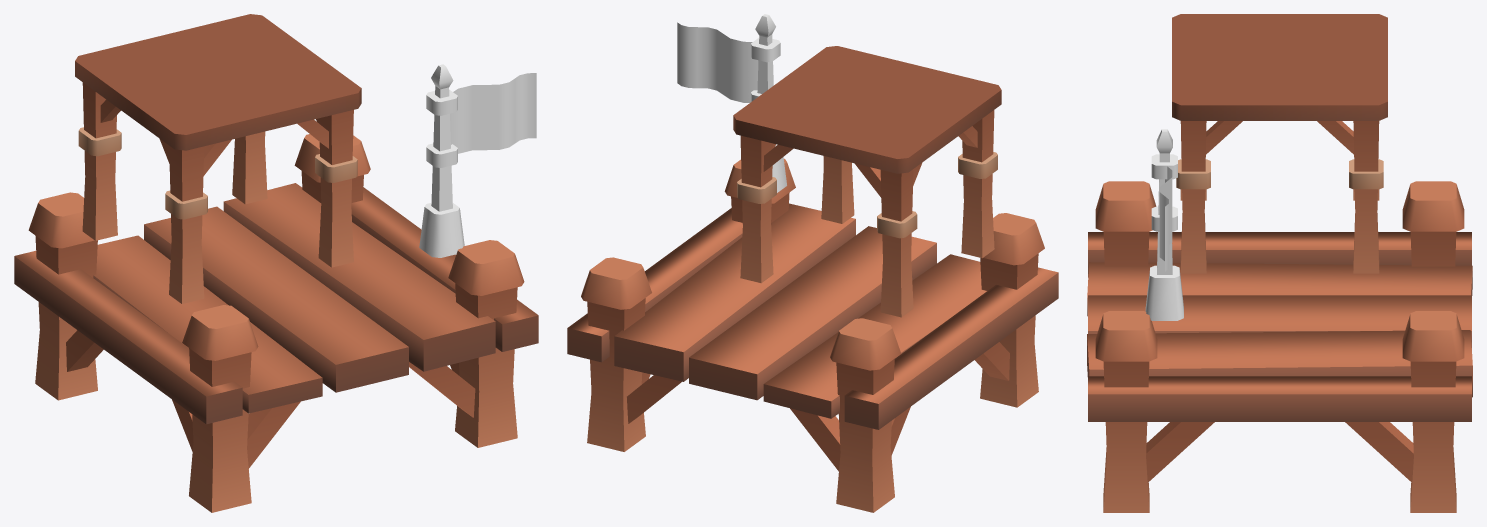
Rendered from harbor.glb.
3 views of the same model, side by side, from view 1: azimuth 30°, elevation 25°; view 2: azimuth 150°, elevation 25°; view 3: azimuth 270°, elevation 25° (orthographic). The views are drawn at different scales.
Visible parts, largest first — view 1: structure-platform-dock, structure, flag; view 2: structure-platform-dock, structure, flag; view 3: structure-platform-dock, structure, flag.
Boxes of the visible parts, bbox=[...] form: structure-platform-dock: bbox=[14, 134, 538, 512]; structure: bbox=[75, 14, 361, 303]; flag: bbox=[419, 64, 536, 257]; structure-platform-dock: bbox=[567, 158, 1058, 512]; structure: bbox=[733, 46, 1001, 317]; flag: bbox=[677, 14, 786, 192]; structure-platform-dock: bbox=[1087, 181, 1472, 512]; structure: bbox=[1172, 14, 1387, 273]; flag: bbox=[1145, 129, 1183, 320].
Size of the model in its own units: 2.22 by 2.07 by 2.01.
Materials: 2 (1 with a texture image).
